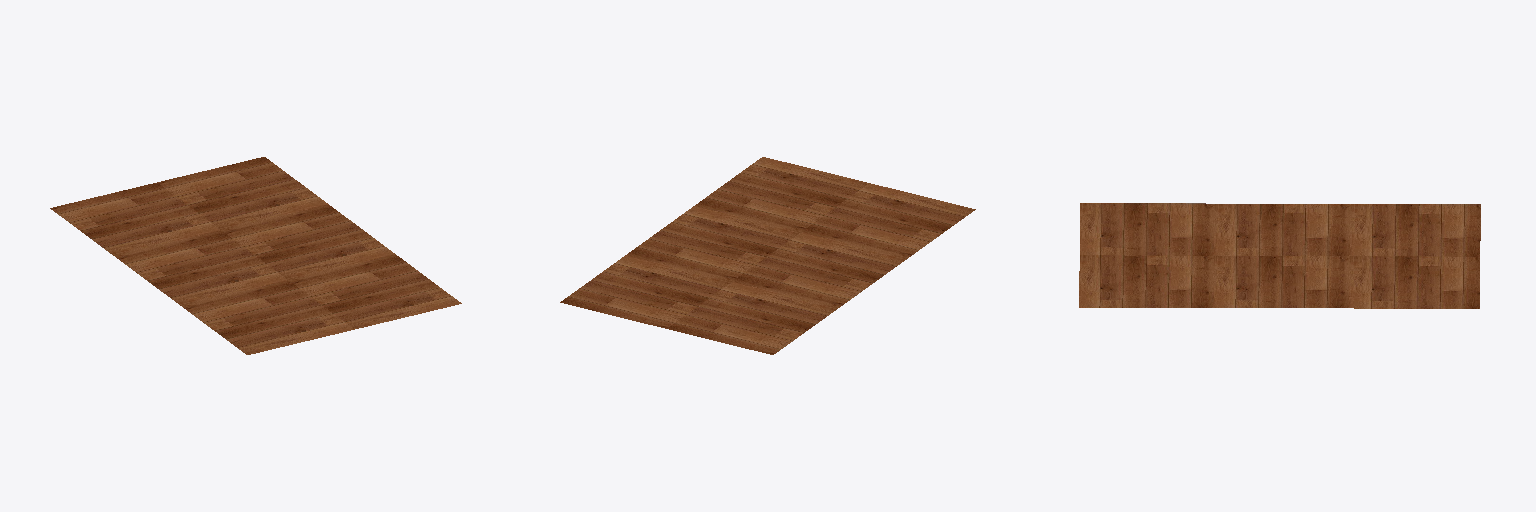
3 renders of one model, left to right at view 1: azimuth 30°, elevation 25°; view 2: azimuth 150°, elevation 25°; view 3: azimuth 270°, elevation 25°, orthographic.
Bounding box in the file's own units: 4.09 × 0 × 6.57.
1 materials, 1 textured.